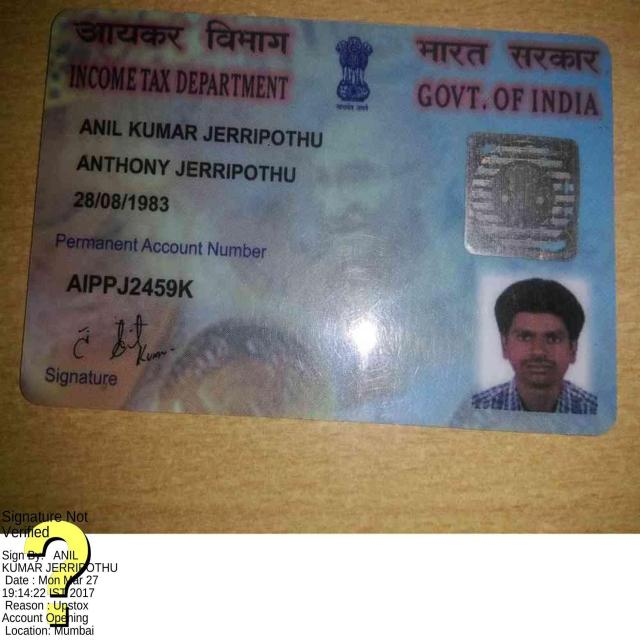pan_card: (18, 16, 612, 430)
